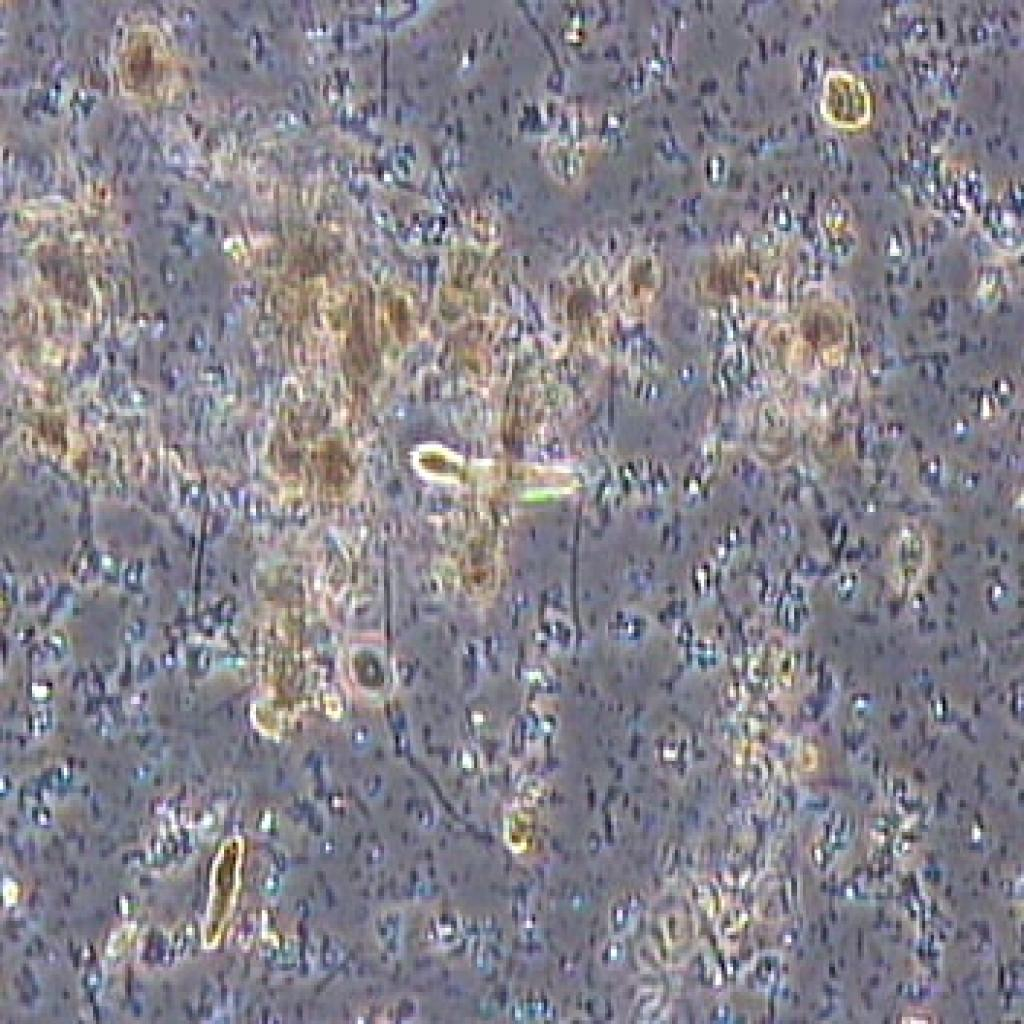Chaetonotus: (403, 432, 604, 514)
